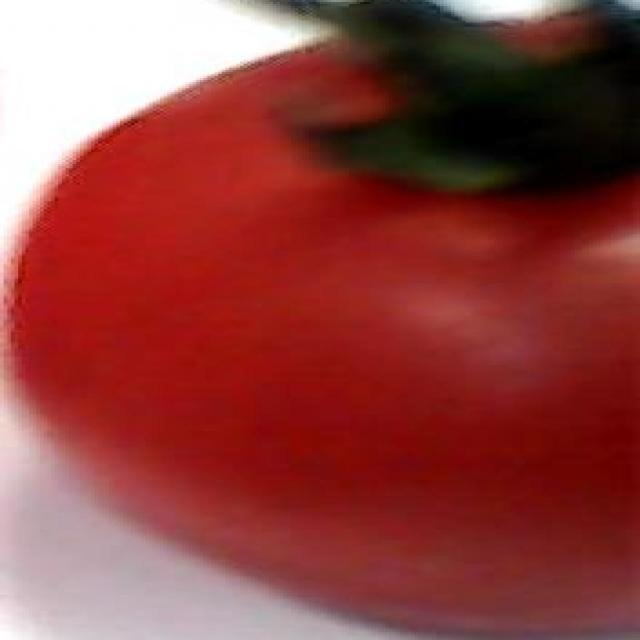Healthy Fruit: (12, 11, 427, 427)
